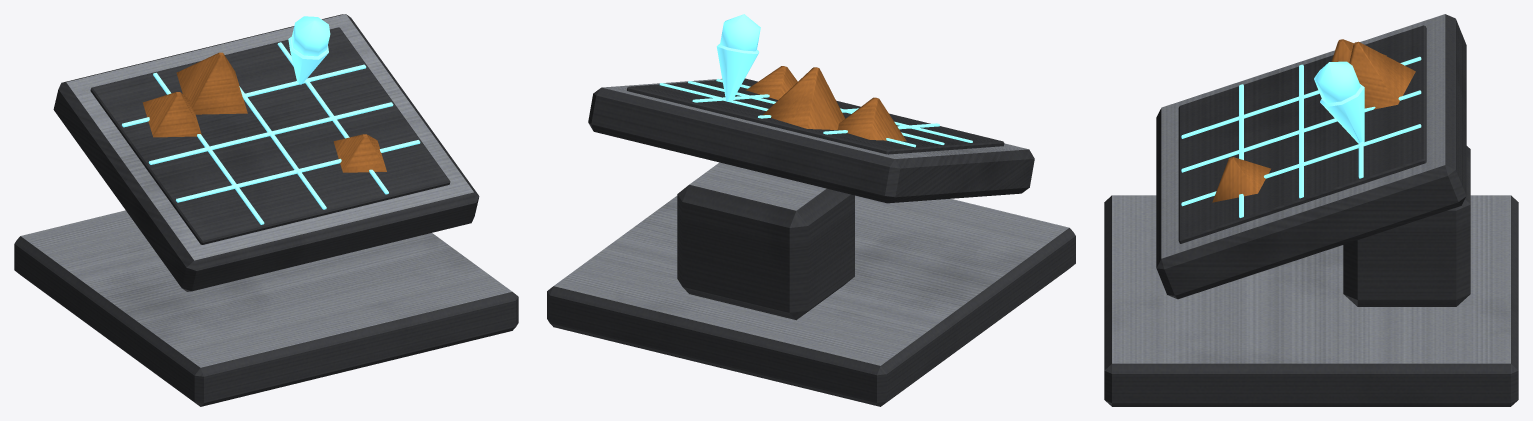
The model's file is R4X_Minimap_LOD1.glb.
3 renders of one model, left to right at view 1: azimuth 30°, elevation 25°; view 2: azimuth 150°, elevation 25°; view 3: azimuth 270°, elevation 25°, orthographic. The views are drawn at different scales.
Visible parts, largest first — view 1: R4X_Minimap_LOD1; view 2: R4X_Minimap_LOD1; view 3: R4X_Minimap_LOD1.
Part boxes in pixels (<box>): R4X_Minimap_LOD1: <box>14,14,518,406</box>; R4X_Minimap_LOD1: <box>547,14,1075,406</box>; R4X_Minimap_LOD1: <box>1104,14,1518,406</box>.
Bounding box in the file's own units: 0.52 × 0.403 × 0.52.
4 materials, 3 textured.
